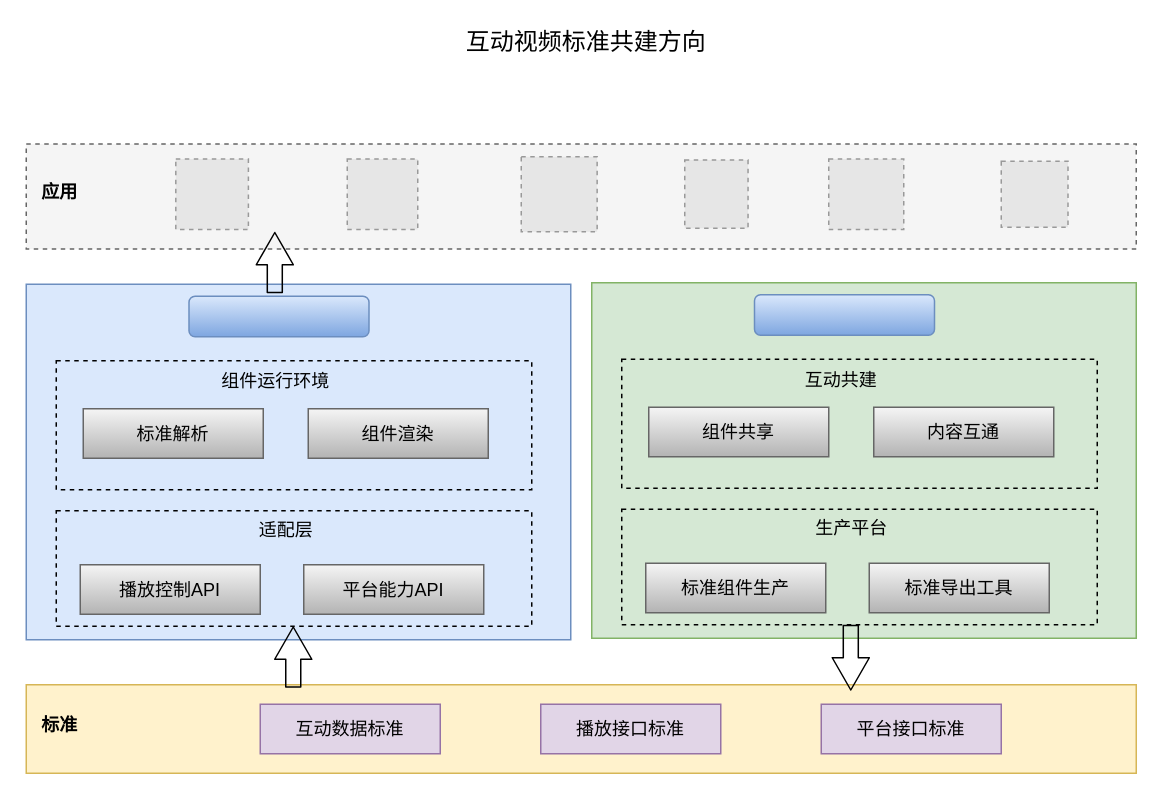
Some shapes in this 1163 by 800 pixel diagram are drawn without their labels. Grey dashed boxes stand in for pictures. Each missing label, with the centre of its shape:
SDK: the point at 278,316
内容生产工具: the point at 843,314
